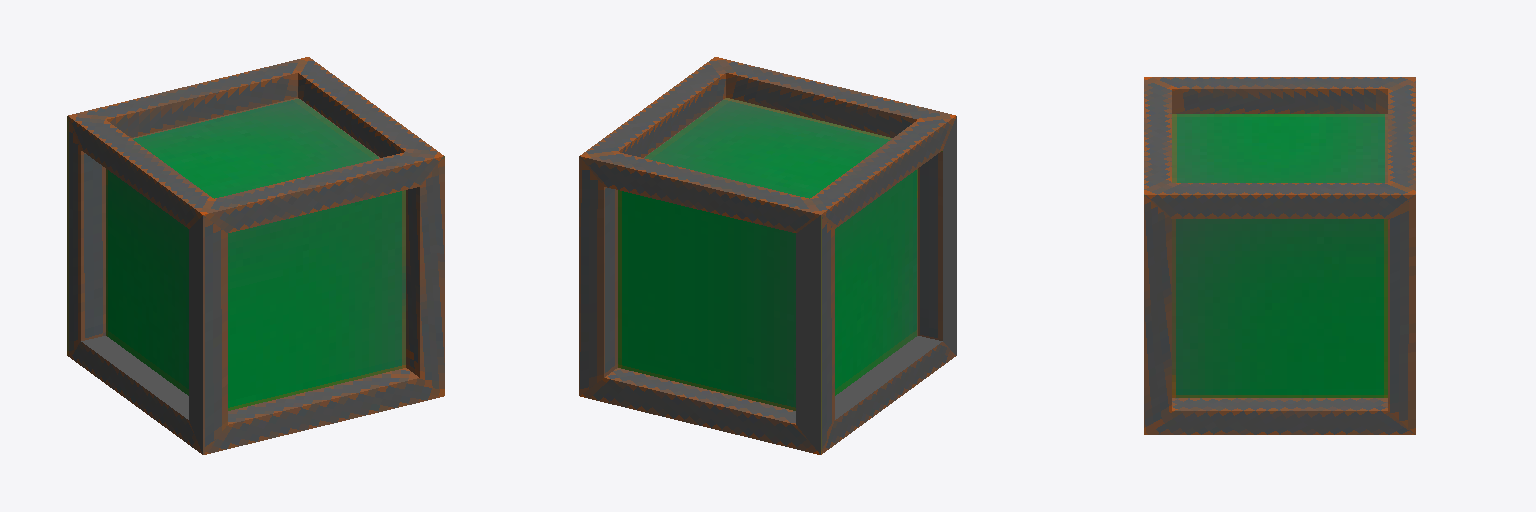
The picture shows the model from 3 angles: view 1: azimuth 30°, elevation 25°; view 2: azimuth 150°, elevation 25°; view 3: azimuth 270°, elevation 25°; orthographic projection.
Visible parts, largest first — view 1: SideOut2_tobSide; view 2: SideOut2_tobSide; view 3: SideOut2_tobSide.
Boxes of the visible parts, x1,y1,x2,y2 form: SideOut2_tobSide: [67, 57, 444, 454]; SideOut2_tobSide: [579, 57, 956, 454]; SideOut2_tobSide: [1144, 77, 1415, 434].
Bounding box in the file's own units: 1.91 × 1.81 × 1.86.
1 materials, 1 textured.